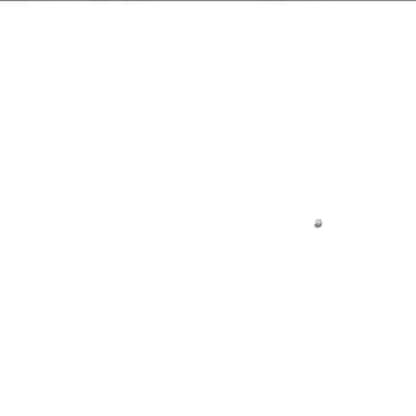golfball: (308, 215, 319, 226)
